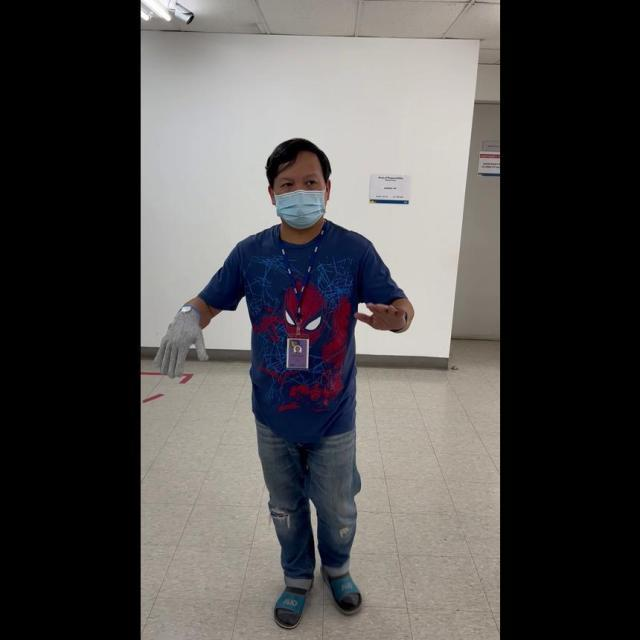bare_hand: (352, 293, 408, 333)
gloved_hand: (154, 304, 208, 376)
